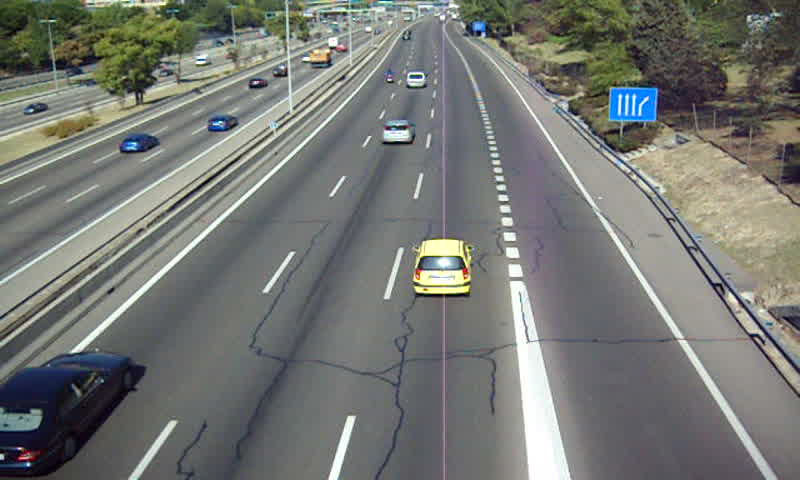car: (1, 352, 132, 474), (410, 238, 474, 296), (381, 119, 416, 146), (405, 71, 424, 88)
motorcycle: (385, 70, 394, 86)
